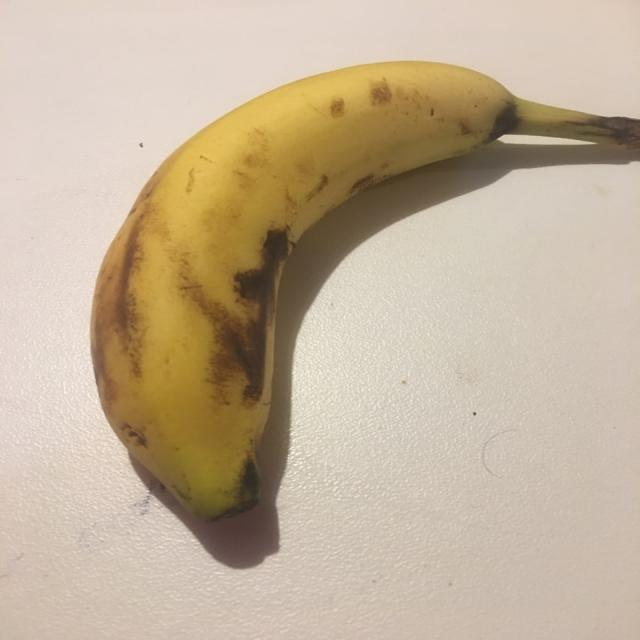Banana: (84, 58, 640, 528)
